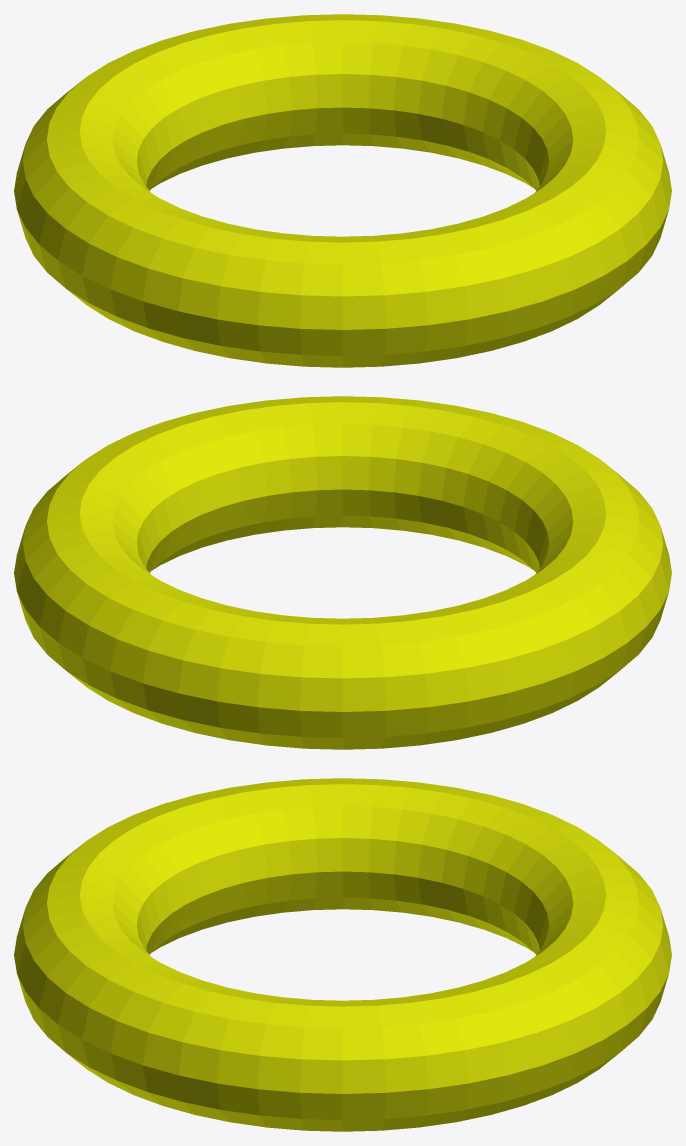
The model's file is davidSphereB3.gltf.
3 renders of one model, top to bottom at view 1: azimuth 30°, elevation 25°; view 2: azimuth 150°, elevation 25°; view 3: azimuth 270°, elevation 25°, orthographic.
Visible parts, largest first — view 1: davidSphereB3; view 2: davidSphereB3; view 3: davidSphereB3.
Part boxes in pixels (x1,y1,x2,y2): davidSphereB3: [14, 14, 671, 367]; davidSphereB3: [14, 396, 671, 749]; davidSphereB3: [14, 778, 671, 1131].
Bounding box in the file's own units: 0.8064 × 0.1613 × 0.8064.
